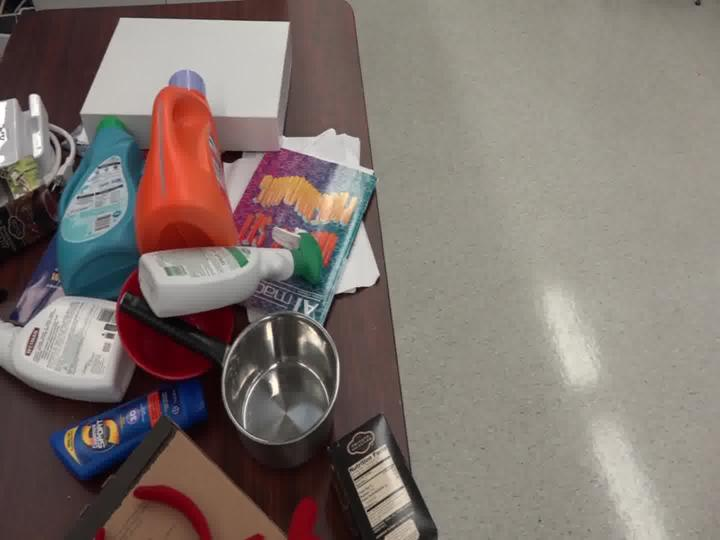downy: (43, 97, 139, 300)
